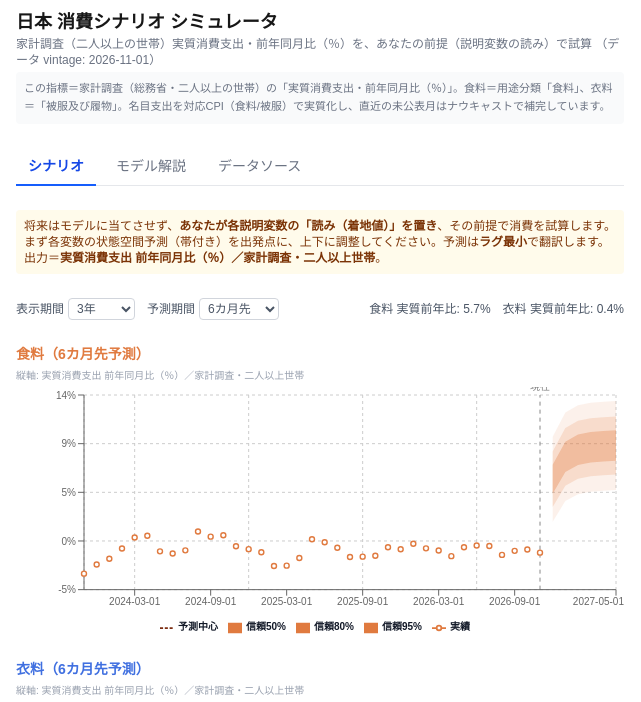
Test: Dashboard tabs › switches to the data tab (source tables + citations)
Click the tab "データソース" at (260, 167), box [206,148,313,186]
(page scrolled)
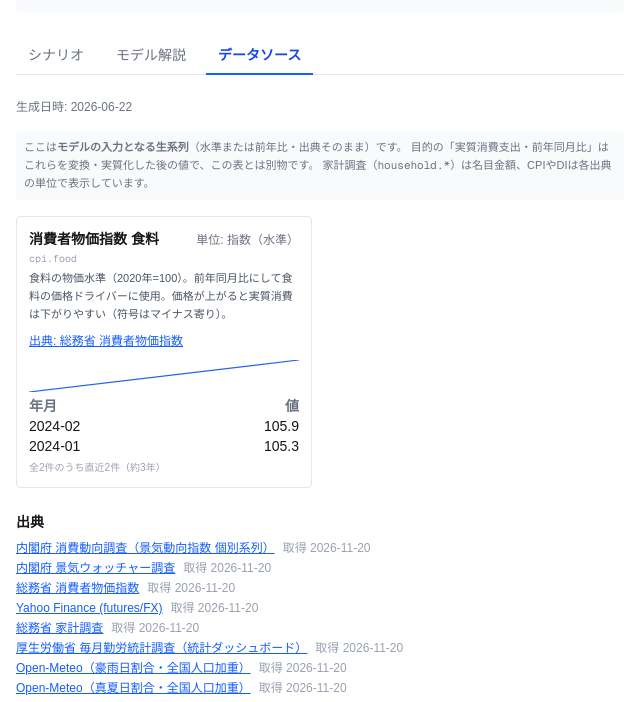
Check: the element with test id "source-tables" is shown, box [16,99,624,488]
Check: the element with test id "series-cpi.food" is shown, box [16,216,312,488]
Check: the element with test id "source-panel" is shown, box [16,514,403,695]
